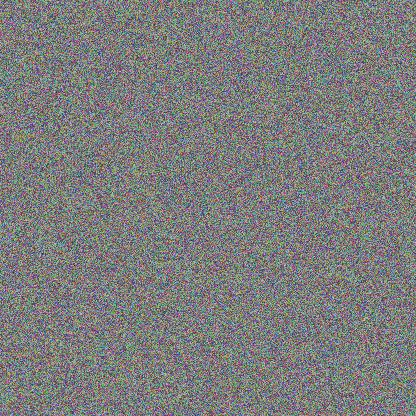empty: (73, 185, 146, 264)
occupied: (114, 83, 174, 169), (171, 207, 247, 254)
